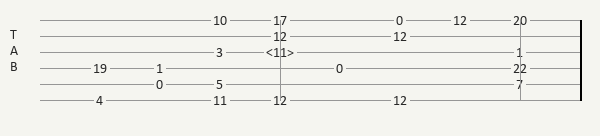0: (156, 78, 167, 91), (336, 62, 347, 75), (396, 14, 407, 27)
1: (156, 62, 167, 75), (516, 46, 527, 59)
10: (213, 14, 231, 27)
11: (213, 94, 231, 107)
12: (273, 30, 291, 43), (273, 94, 291, 107), (393, 30, 411, 43), (393, 94, 411, 107), (453, 14, 471, 27)
17: (273, 14, 291, 27)
19: (93, 62, 111, 75)
20: (513, 14, 531, 27)
22: (513, 62, 531, 75)
3: (216, 46, 227, 59)
4: (96, 94, 107, 107)
5: (216, 78, 227, 91)
7: (516, 78, 527, 91)
harmonic: (266, 46, 298, 59)
